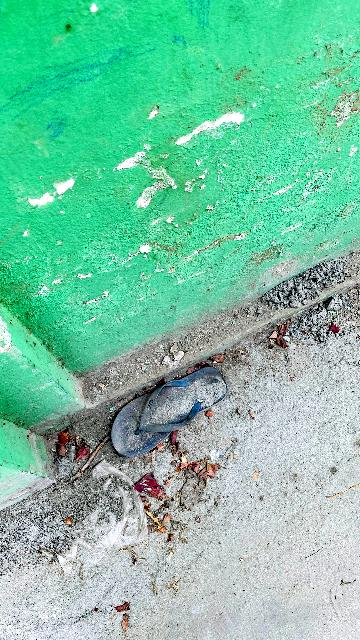sandal: (98, 348, 243, 467)
